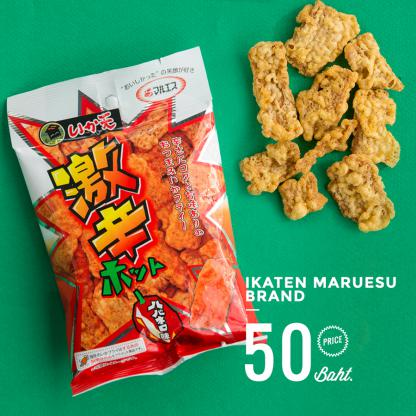potatochip: (6, 48, 263, 396)
